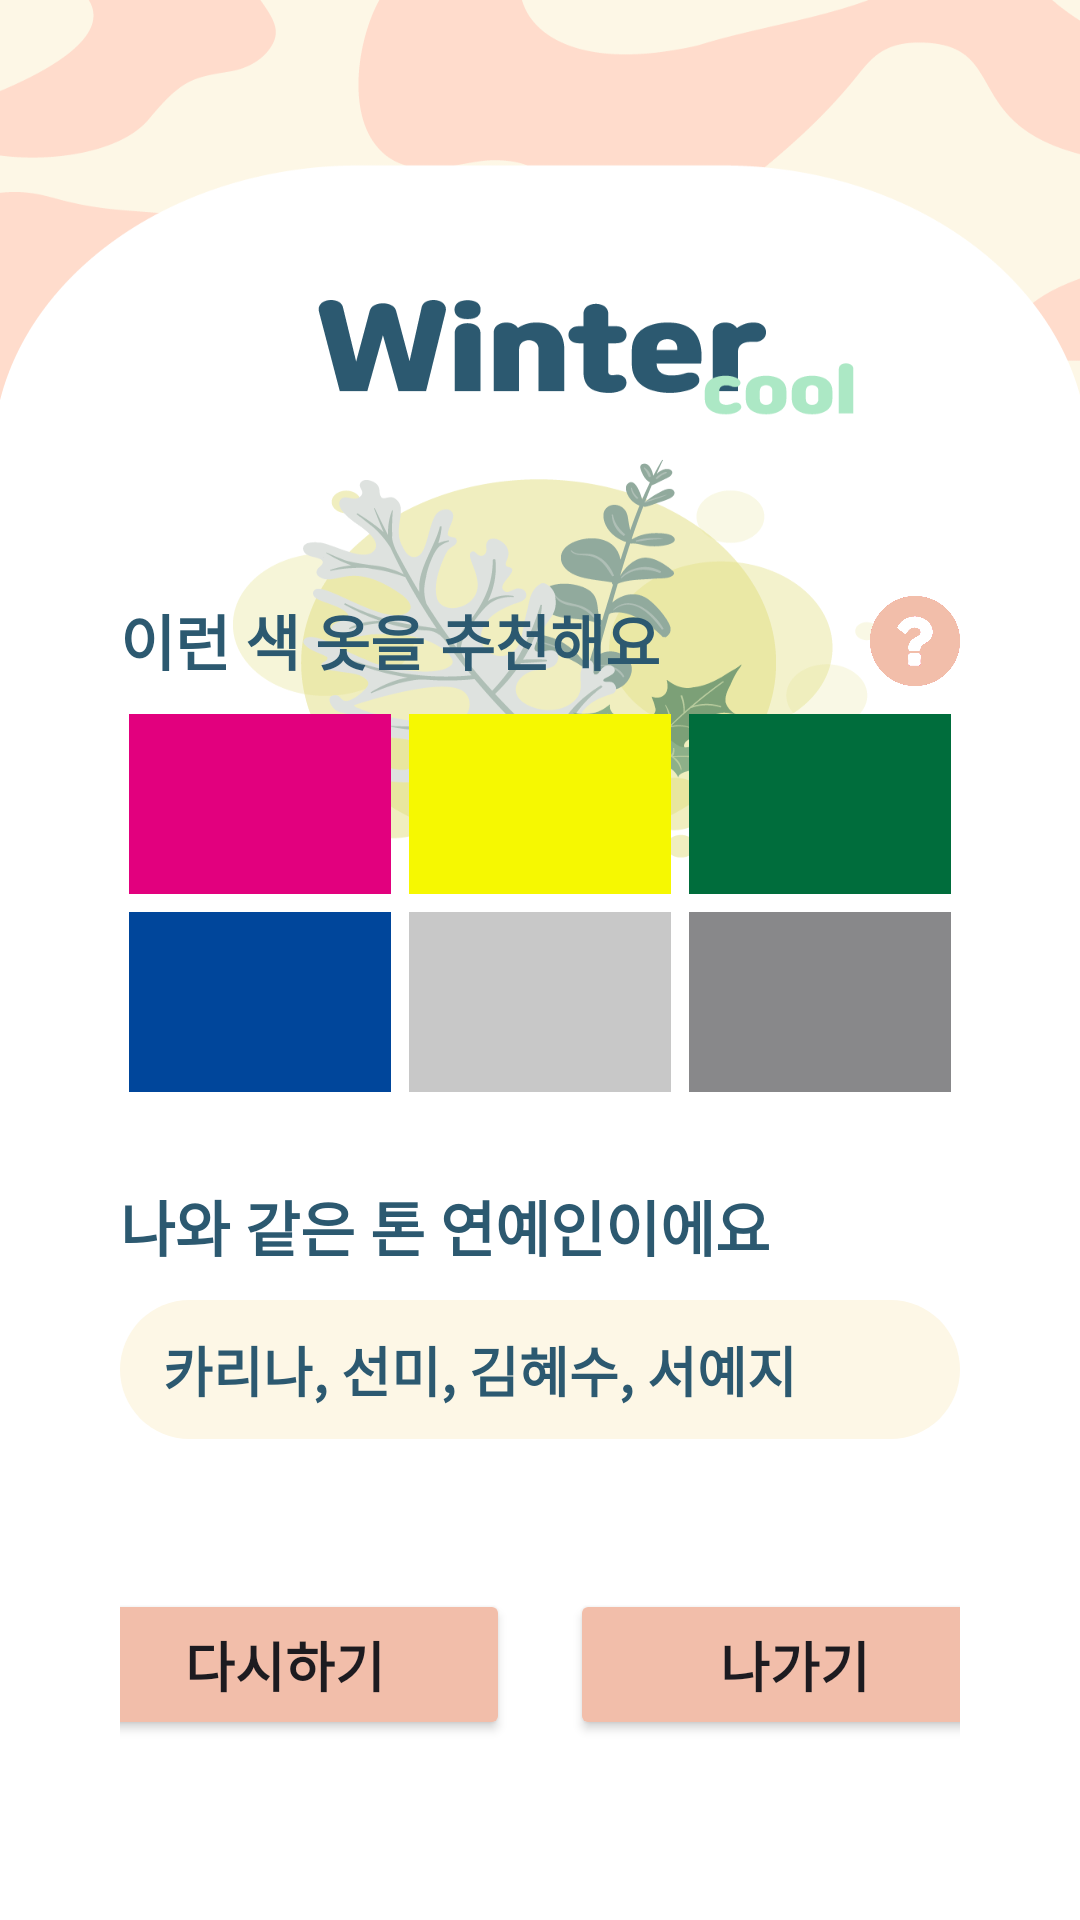

Icons on this 1080px×1920px Android screen, each with the point to tap as point (x, y):
question mark: point (915, 641)
